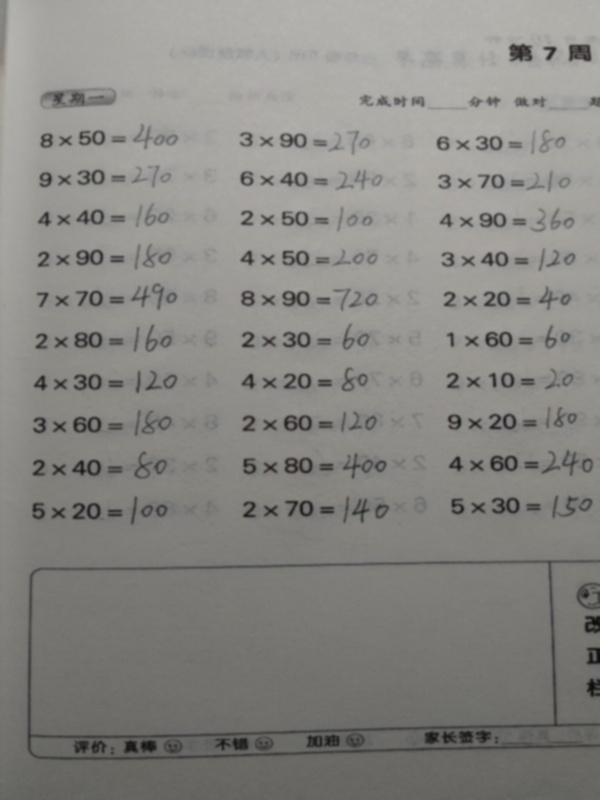equation: (29, 491, 183, 529), (31, 321, 182, 357), (239, 491, 394, 526), (443, 401, 587, 437), (32, 364, 182, 397), (34, 281, 183, 314), (237, 362, 374, 397), (31, 450, 178, 482), (34, 241, 175, 274), (37, 121, 182, 153), (448, 490, 596, 521), (237, 127, 379, 159), (30, 411, 181, 441), (34, 202, 176, 233), (237, 285, 383, 315), (437, 205, 578, 236), (433, 126, 569, 158), (240, 450, 395, 478), (237, 204, 376, 235), (443, 323, 584, 353), (438, 245, 579, 275), (36, 162, 175, 192), (441, 283, 575, 314), (237, 167, 387, 194), (446, 450, 597, 476), (435, 168, 575, 196), (447, 364, 581, 393), (236, 409, 384, 435), (237, 324, 378, 351), (236, 245, 381, 271)
